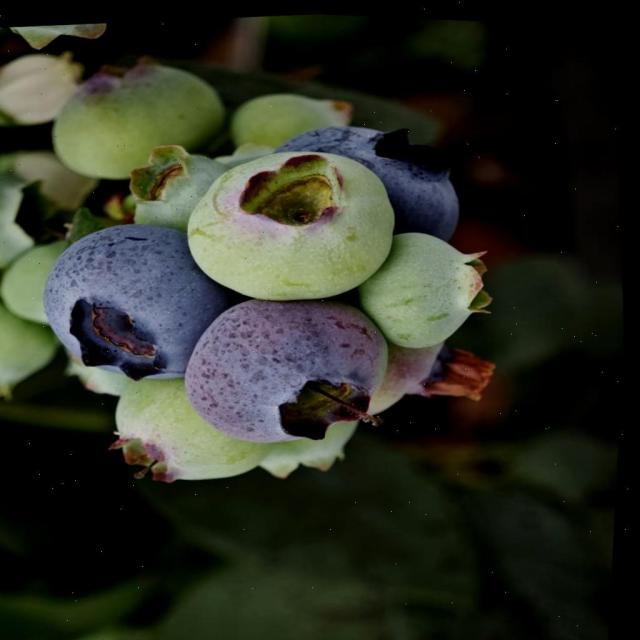RipeBlueBerry: (36, 215, 216, 384)
Semi-RipeBlueBerry: (181, 287, 395, 451)
UnripeBlueBerry: (179, 140, 408, 308)
